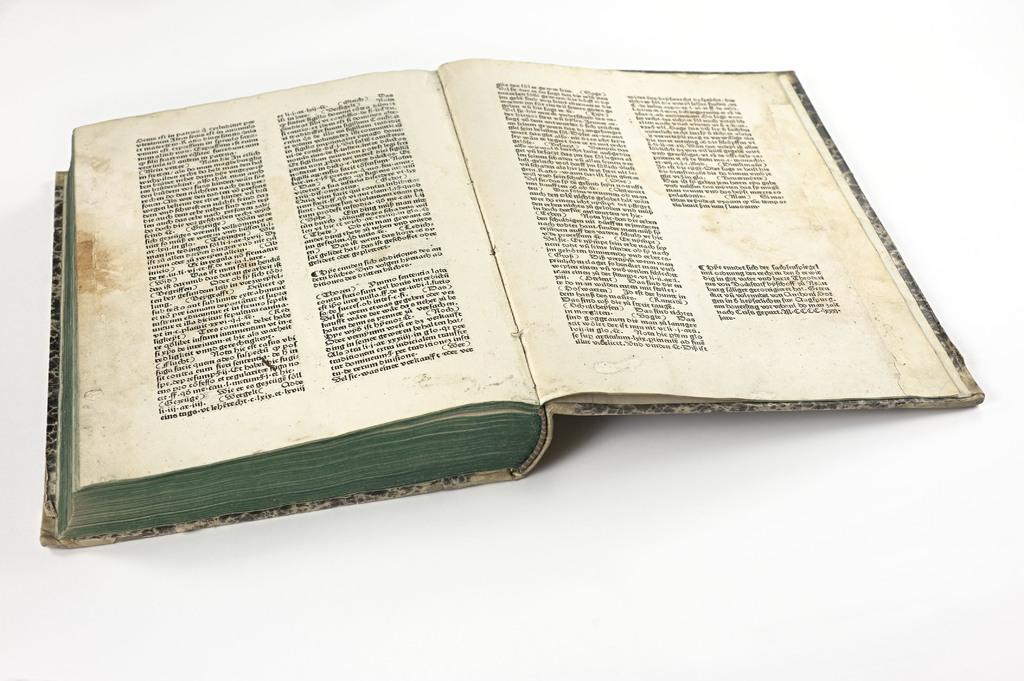book: (83, 77, 912, 505)
